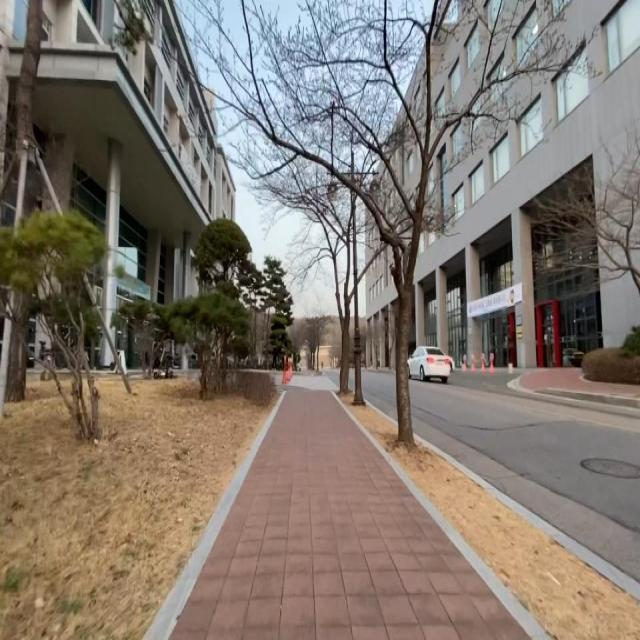sidewalk: (168, 389, 535, 640), (519, 368, 640, 399), (301, 369, 322, 377)
